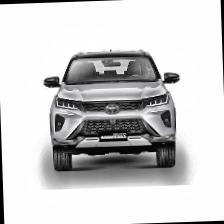NON-EV: (39, 47, 189, 174)
